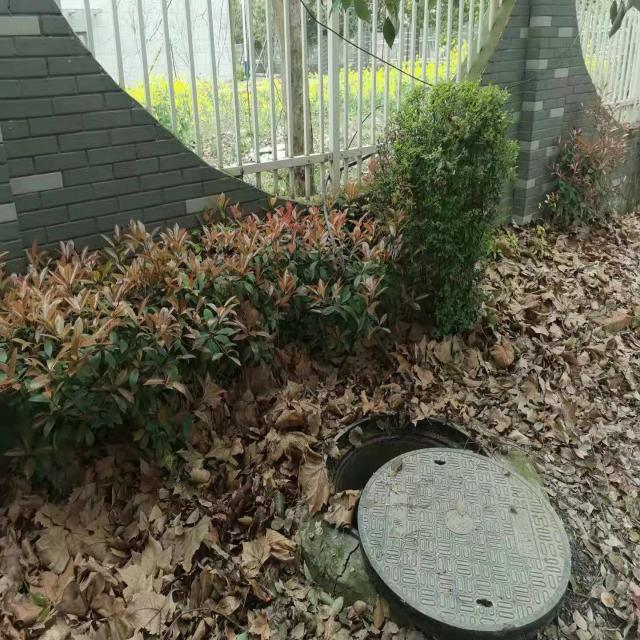Faulty: (328, 404, 576, 640)
